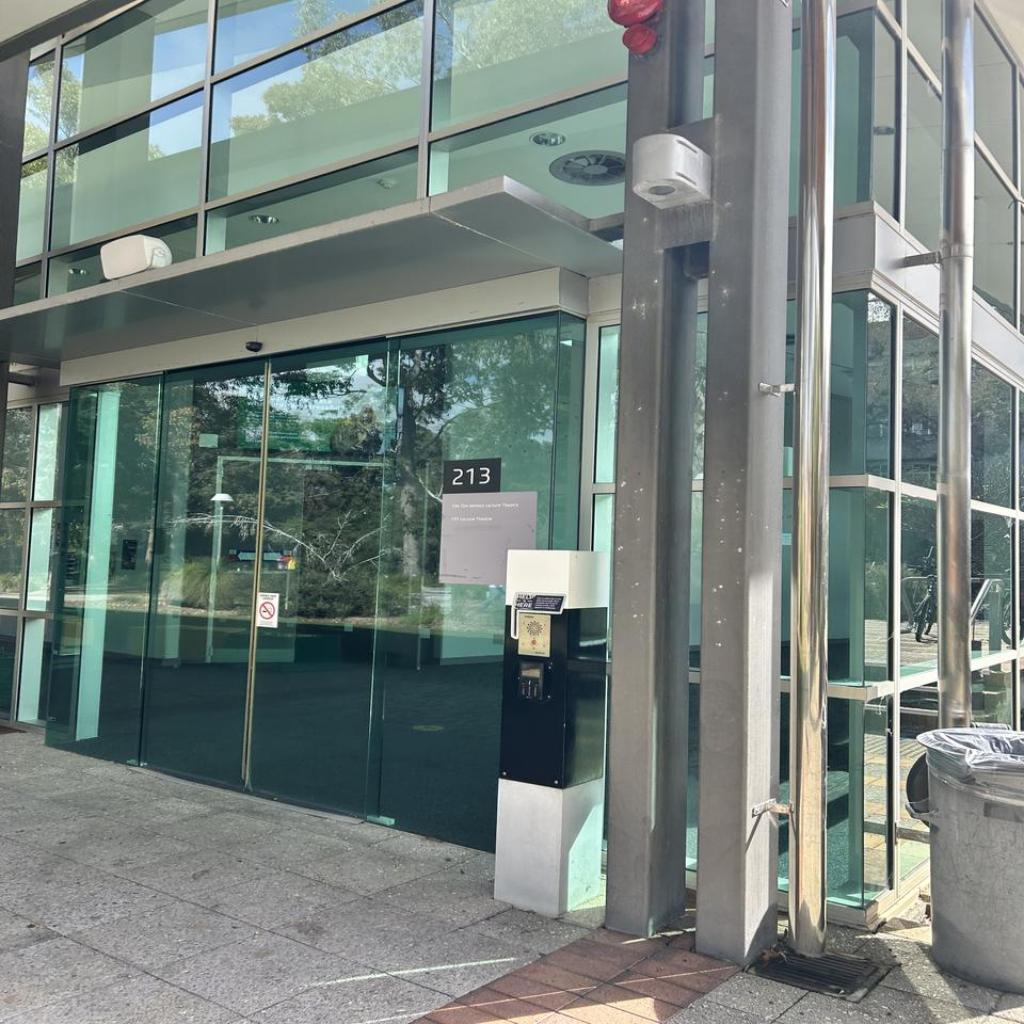BuildingCodes: (450, 468, 492, 486)
